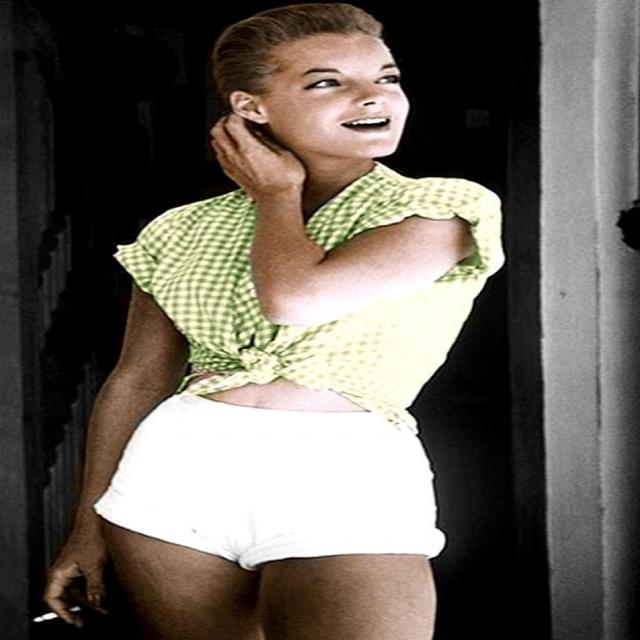Сигарета: (34, 608, 81, 626)
Тело: (46, 17, 505, 640)
